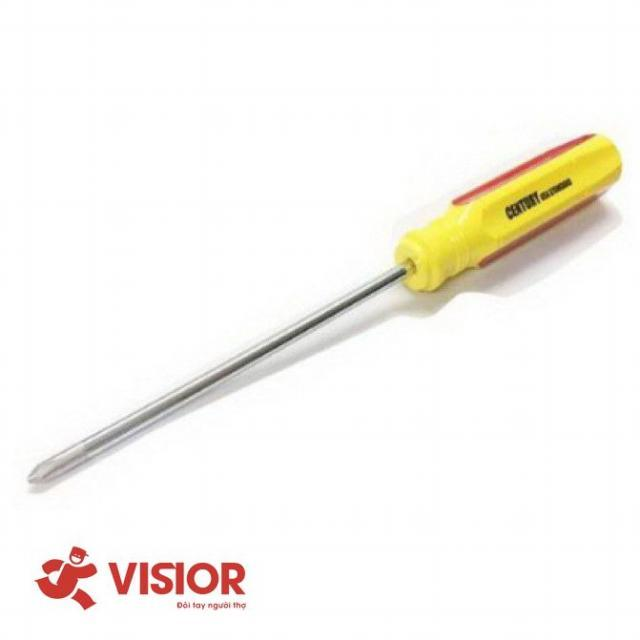screwdriver: (24, 130, 623, 494)
